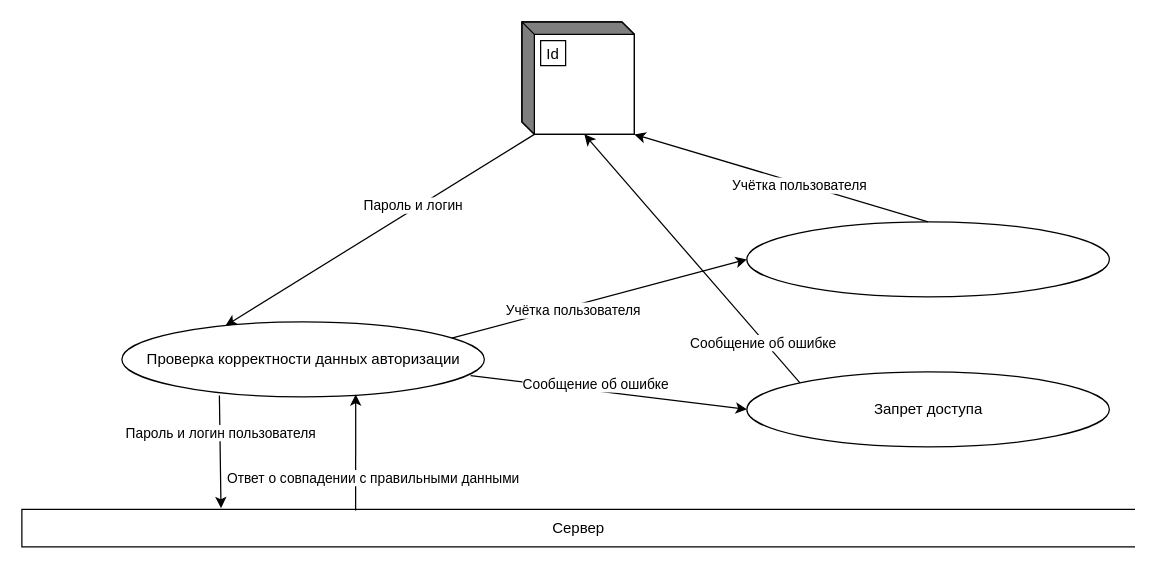
The diagram is 1156 pixels wide and 569 high, and some of its shapes have lost their labels. Here are the shapes that lost their labels. From the top down, the centre of each, then its label:
At (x=577, y=77): "Студент".
At (x=927, y=259): "Вход в систему".
